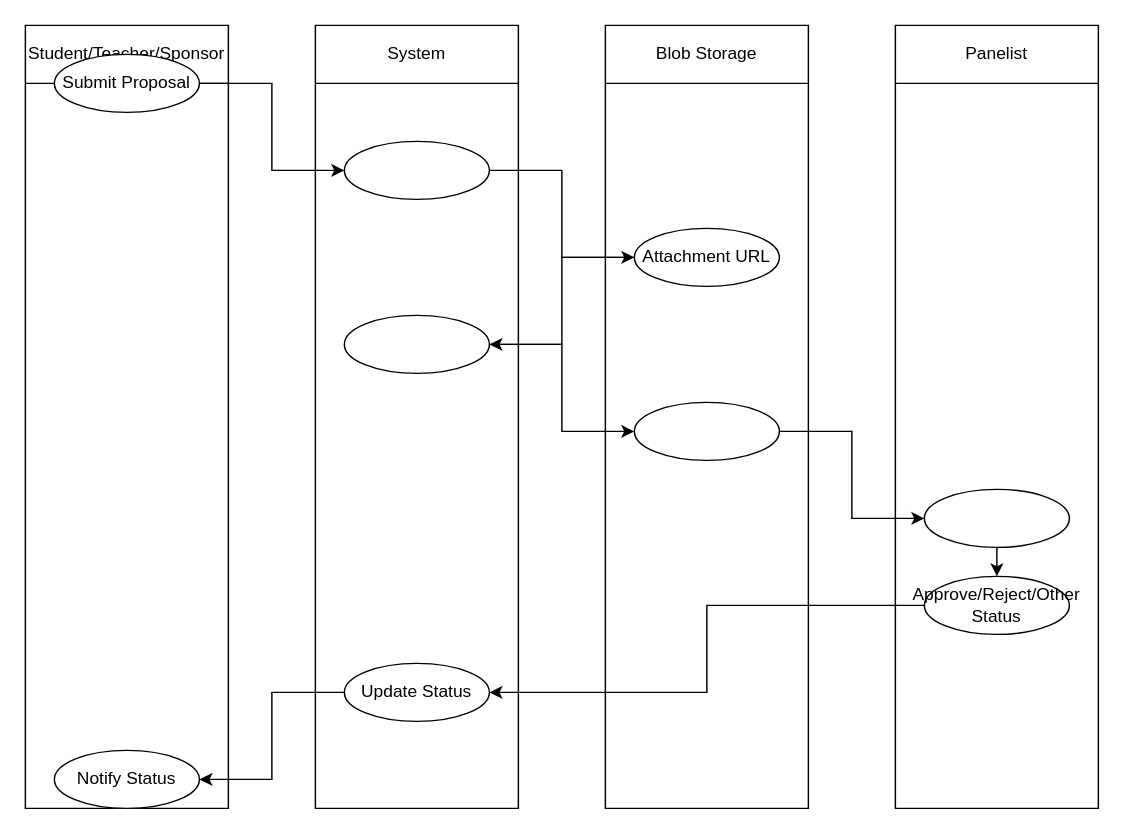
Image size: 1124x834. Some labels were removed from this diagram. Here are the shapes that lost their labels. From the top down, the centre of each, then its label:
At pixel 416 169: "Upload Attachment".
At pixel 416 343: "Assign Status 'Submitted'".
At pixel 706 430: "Send Notification".
At pixel 996 517: "Visit Proposal".
